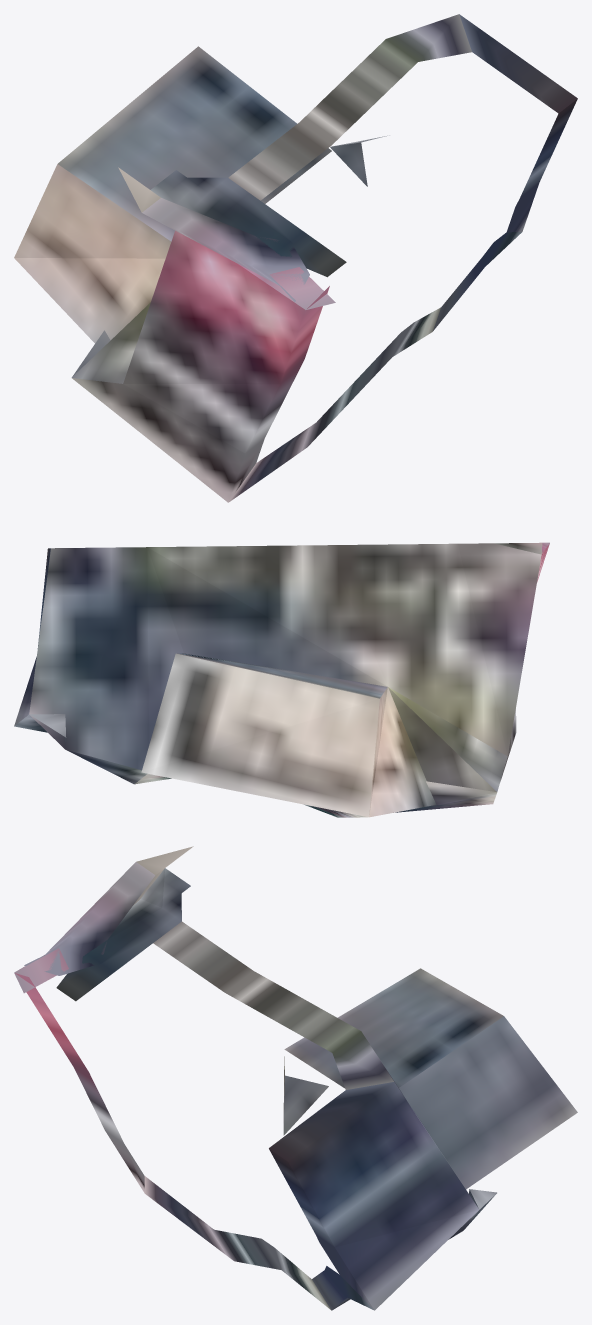
3 renders of one model, top to bottom at view 1: azimuth 30°, elevation 25°; view 2: azimuth 150°, elevation 25°; view 3: azimuth 270°, elevation 25°, orthographic. The views are drawn at different scales.
Bounding box in the file's own units: 27.33 × 17.5 × 27.94.
1 material, 1 textured.
